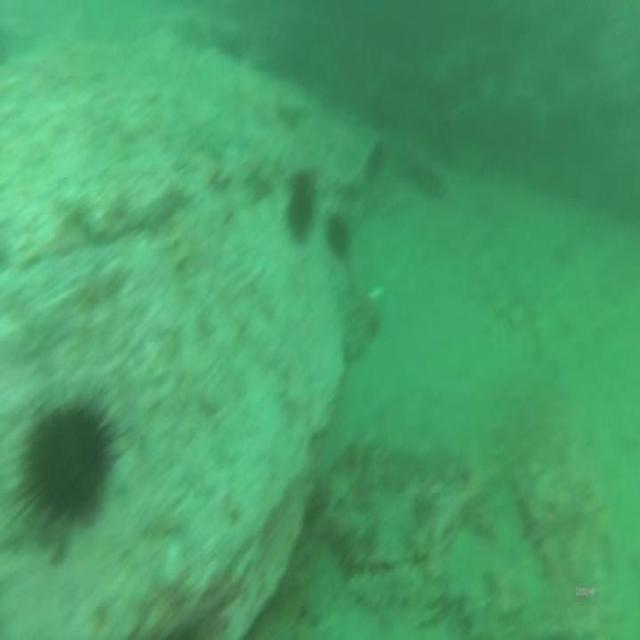echinus: (28, 411, 108, 518), (288, 188, 313, 236), (326, 218, 349, 253)
holothurian: (347, 570, 422, 608)
